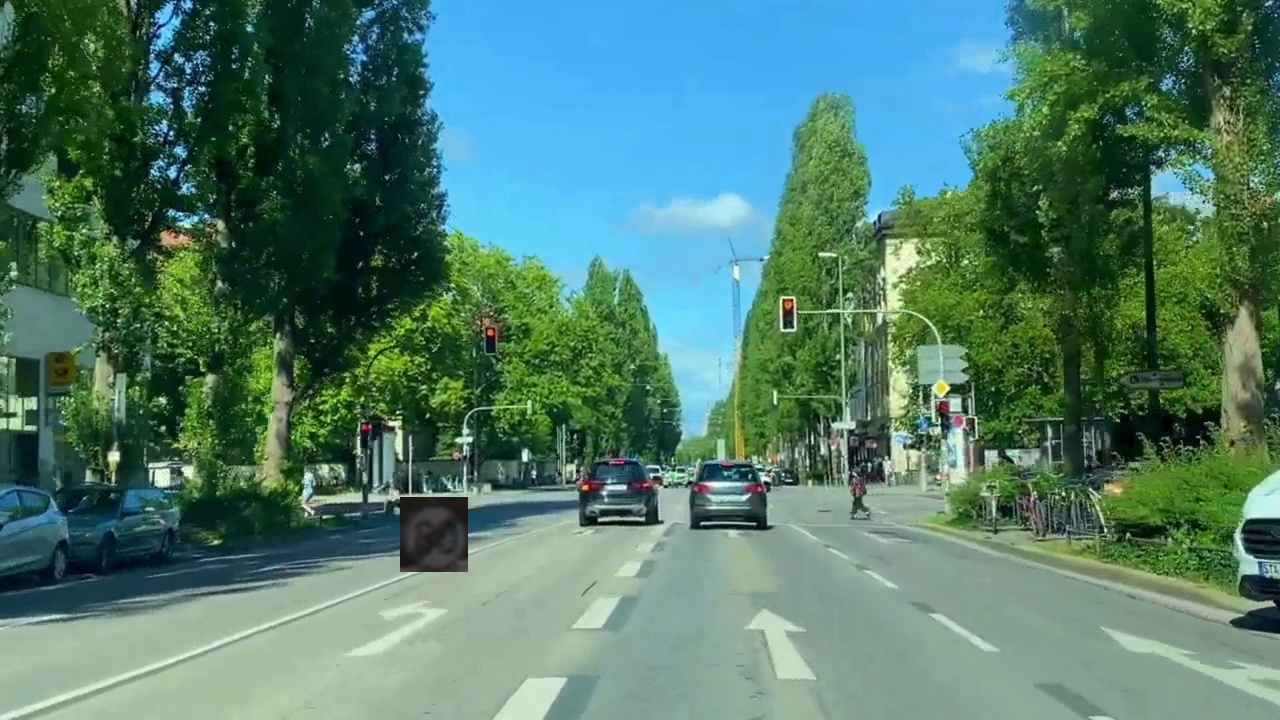End Speed 80: (400, 497, 468, 572)
